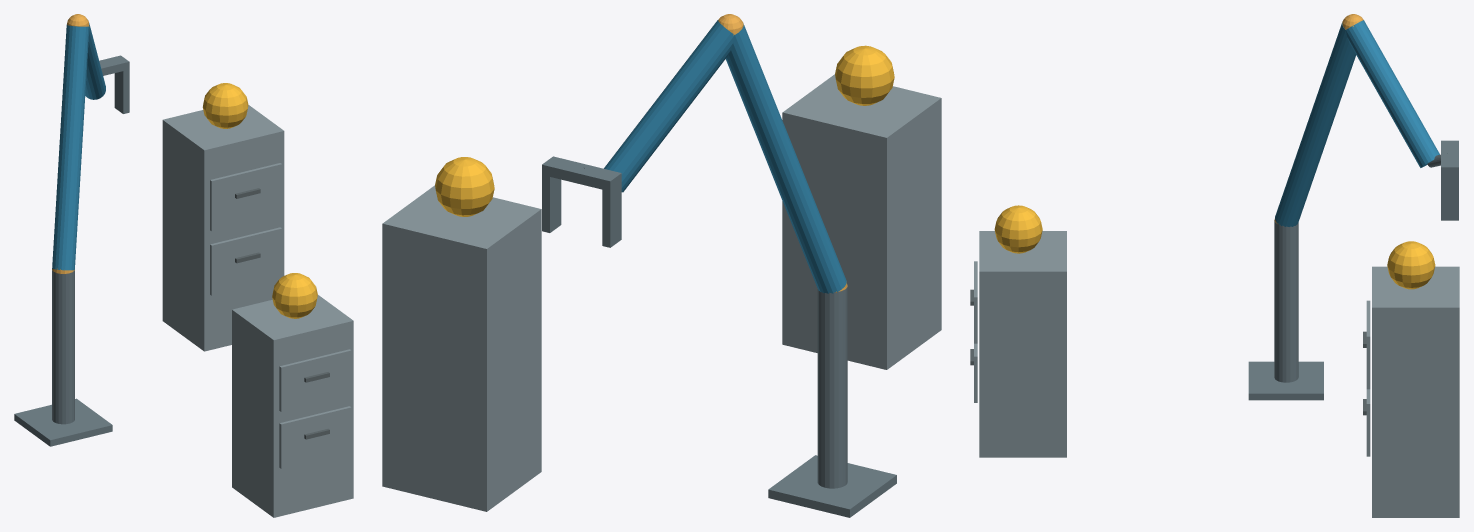
3 renders of one model, left to right at view 1: azimuth 30°, elevation 25°; view 2: azimuth 150°, elevation 25°; view 3: azimuth 270°, elevation 25°, orthographic. The views are drawn at different scales.
Visible parts, largest first — view 1: cabinet_2 body, cabinet_1 body, moving link 1, cabinet_2 drawer front.001, cabinet_2 drawer front, fixed post, cabinet_1 drawer front.001, cabinet_1 drawer front, pedestal, released ball_1, ball ball_2, moving link 2 (+2 smaller); view 2: cabinet_2 body, cabinet_1 body, moving link 1, fixed post, moving link 2, pedestal, released ball_1, ball ball_2, gripper bridge, gripper finger -1, gripper finger 1; view 3: cabinet_2 body, cabinet_1 body, moving link 1, fixed post, moving link 2, pedestal, released ball_1, ball ball_2, gripper finger 1, gripper bridge.
Boxes of the visible parts, bbox=[...] form: cabinet_2 body: bbox=[162, 105, 284, 351]; cabinet_1 body: bbox=[232, 295, 353, 517]; moving link 1: bbox=[52, 25, 89, 270]; cabinet_2 drawer front.001: bbox=[210, 163, 281, 231]; cabinet_2 drawer front: bbox=[210, 227, 281, 295]; fixed post: bbox=[52, 270, 74, 424]; cabinet_1 drawer front.001: bbox=[279, 349, 351, 411]; cabinet_1 drawer front: bbox=[279, 406, 351, 468]; pedestal: bbox=[14, 398, 112, 446]; released ball_1: bbox=[272, 273, 317, 318]; ball ball_2: bbox=[202, 83, 248, 128]; moving link 2: bbox=[85, 23, 105, 99]; cabinet_2 body: bbox=[382, 185, 541, 511]; cabinet_1 body: bbox=[782, 74, 941, 369]; moving link 1: bbox=[726, 23, 846, 293]; fixed post: bbox=[817, 285, 847, 488]; moving link 2: bbox=[604, 20, 734, 192]; pedestal: bbox=[768, 455, 896, 517]; released ball_1: bbox=[835, 45, 894, 105]; ball ball_2: bbox=[435, 157, 494, 216]; gripper bridge: bbox=[542, 156, 621, 191]; gripper finger -1: bbox=[602, 183, 621, 247]; gripper finger 1: bbox=[542, 175, 561, 232]; cabinet_2 body: bbox=[1372, 266, 1459, 517]; cabinet_1 body: bbox=[979, 231, 1066, 457]; moving link 1: bbox=[1275, 23, 1355, 226]; fixed post: bbox=[1274, 221, 1298, 382]; moving link 2: bbox=[1346, 20, 1439, 167]; pedestal: bbox=[1248, 361, 1323, 400]; released ball_1: bbox=[994, 205, 1042, 253]; ball ball_2: bbox=[1387, 241, 1435, 289]; gripper finger 1: bbox=[1441, 175, 1458, 220]; gripper bridge: bbox=[1441, 140, 1458, 175].
Size of the model in its own units: 1.17 by 1.44 by 1.62.
